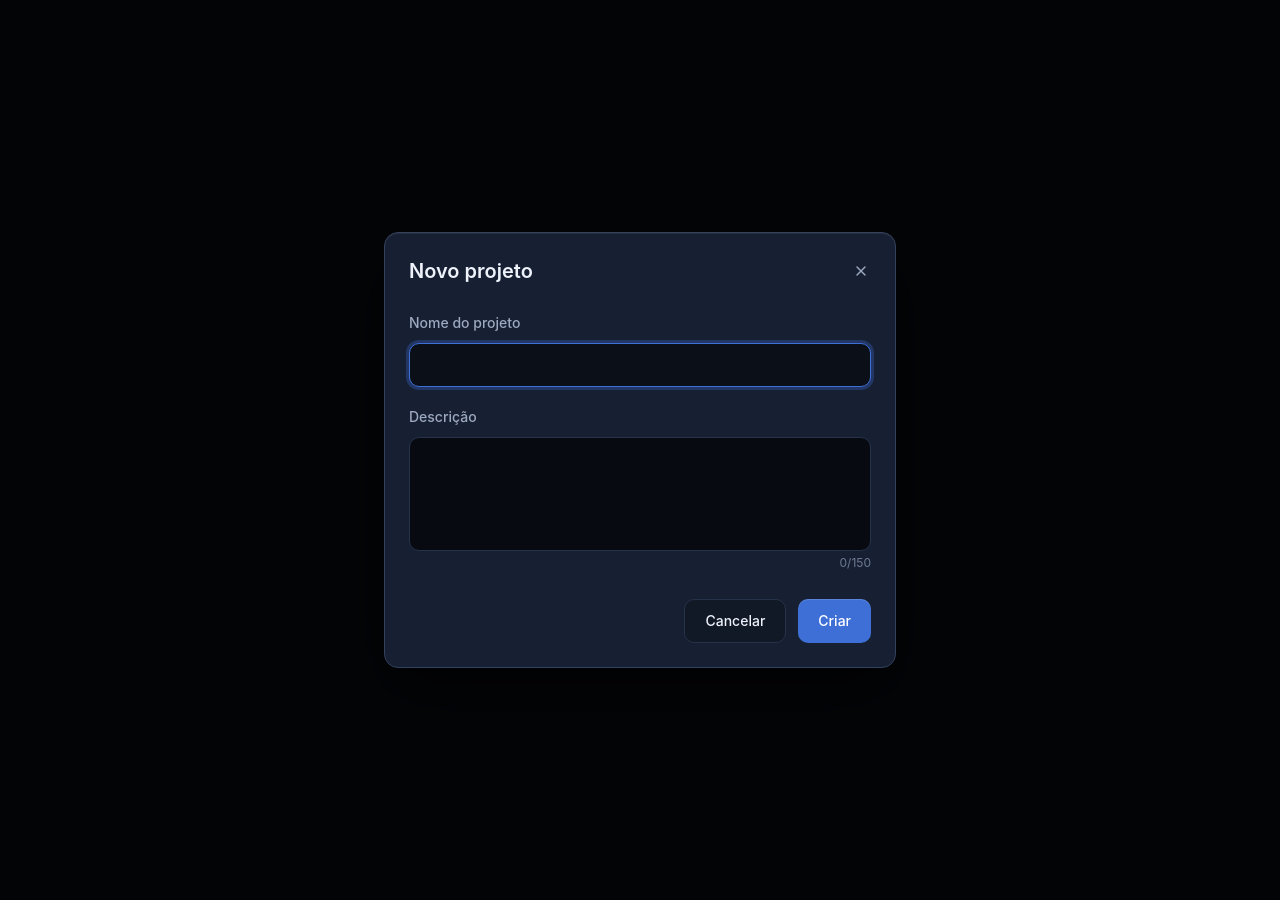
Test case: ProjectFormModal › modo criação › deve exibir a mensagem da API e manter o modal aberto quando o envio falhar
Type "Loja" into the field labelled "Nome do projeto".
click(640, 365); type("Loja")  # box [409, 343, 871, 387]
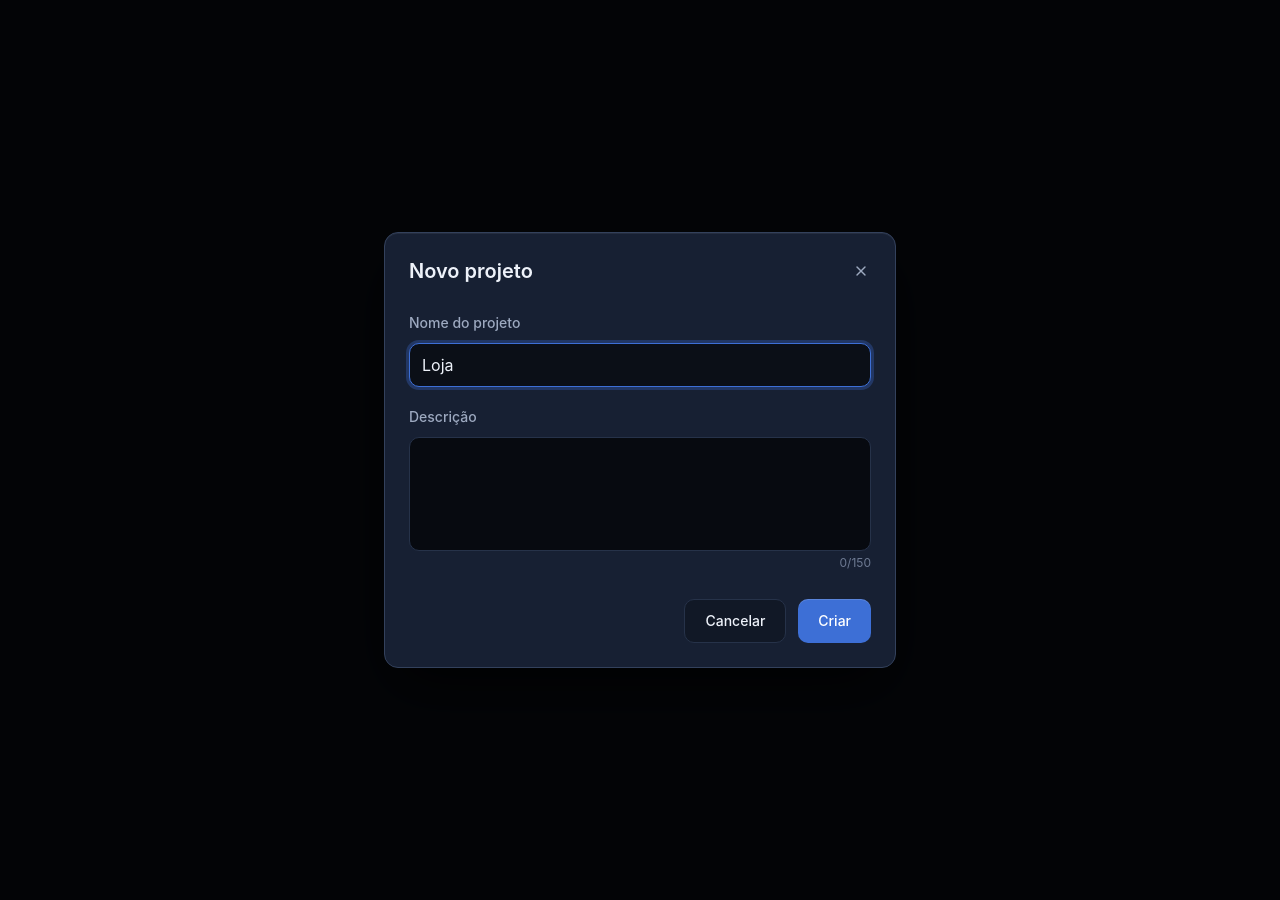
Click the button "Criar".
click(835, 621)  # box [798, 599, 871, 643]
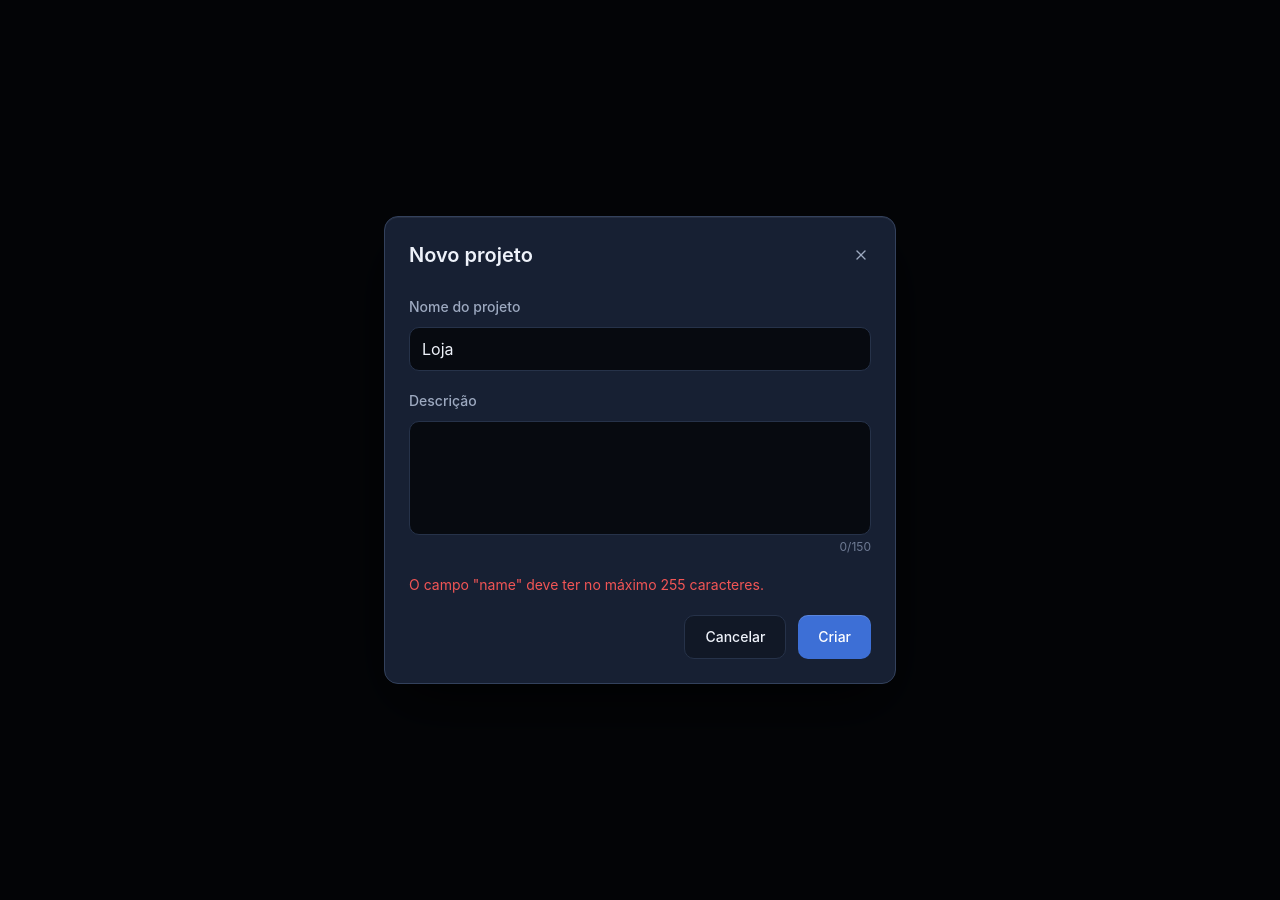
Expected: the button "Criar" is enabled, [798, 615, 871, 659]
Expected: the message reads "O campo \"name\" deve ter no máximo 255 caracteres.", [409, 576, 764, 593]
